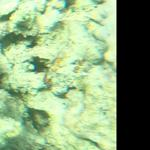dead: (1, 1, 113, 148)
